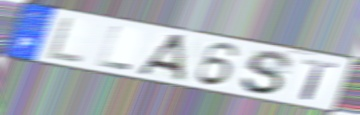6: (194, 41, 241, 88)
A: (135, 33, 188, 84)
L: (45, 15, 86, 65), (95, 24, 133, 72)
S: (238, 49, 295, 97)
T: (299, 57, 341, 102)
